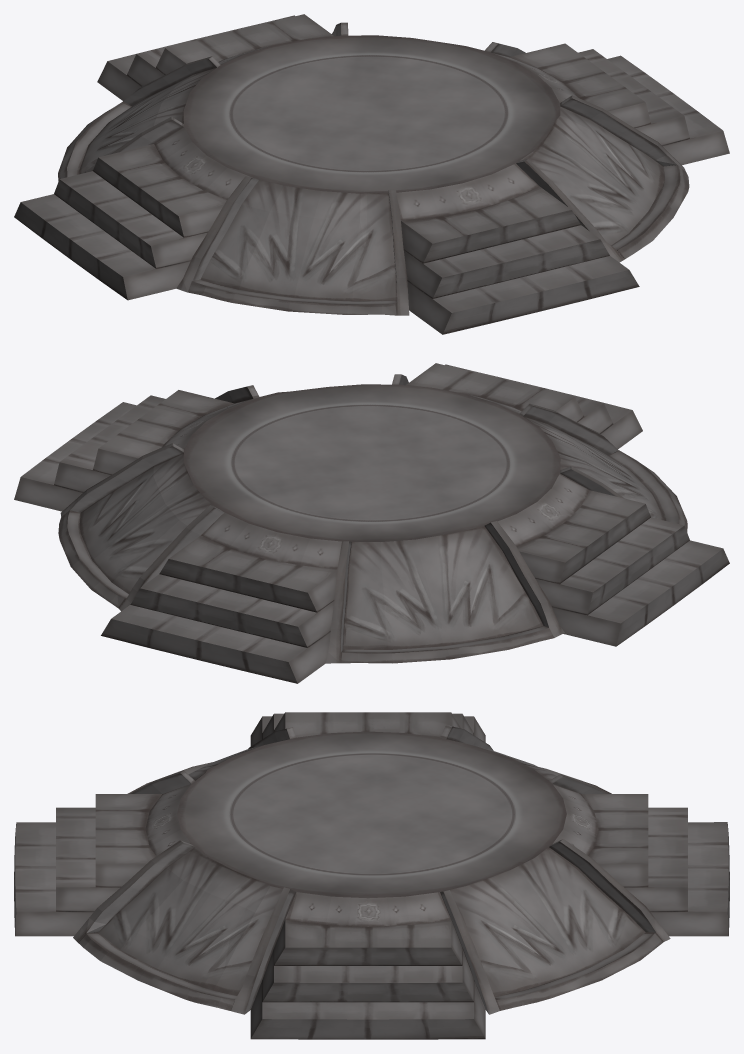
File: Castle_AltarCircle.fbx
3 renders of one model, top to bottom at view 1: azimuth 30°, elevation 25°; view 2: azimuth 150°, elevation 25°; view 3: azimuth 270°, elevation 25°, orthographic. The views are drawn at different scales.
Visible parts, largest first — view 1: altar_base_type01; view 2: altar_base_type01; view 3: altar_base_type01.
Boxes of the visible parts, x1,y1,x2,y2 form: altar_base_type01: (14, 14, 729, 334); altar_base_type01: (14, 363, 729, 683); altar_base_type01: (14, 712, 729, 1039).
Size of the model in its own units: 895 by 110 by 889.
